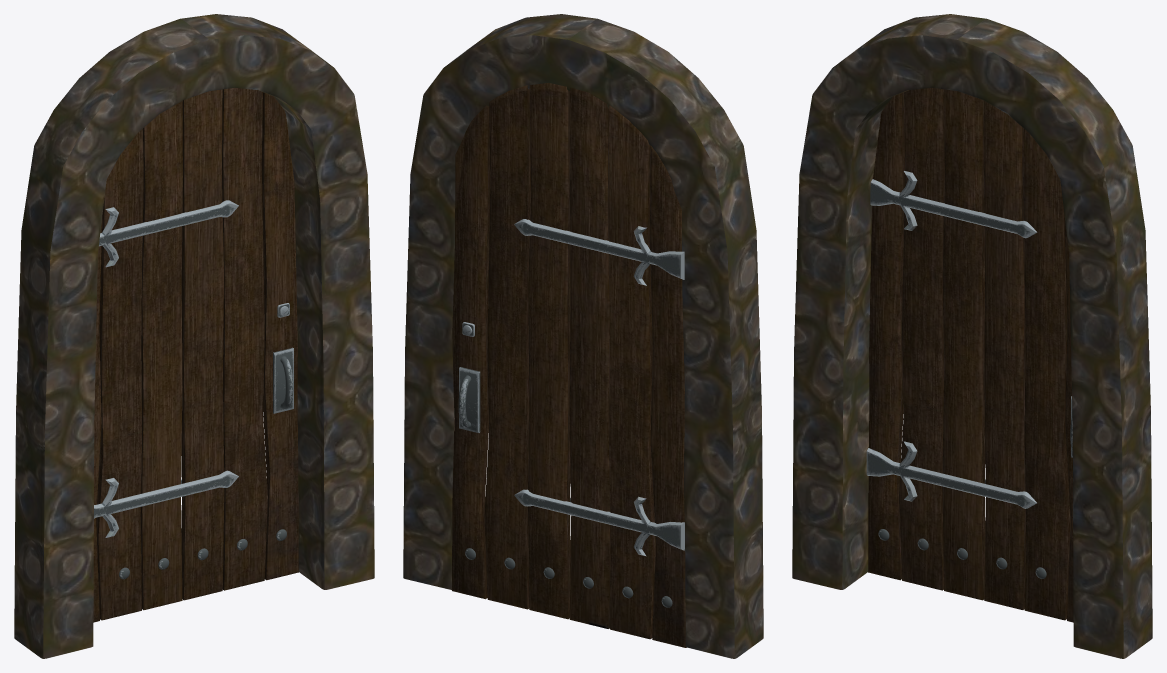
The model's file is door.fbx.
3 views of the same model, side by side, from view 1: azimuth 30°, elevation 25°; view 2: azimuth 150°, elevation 25°; view 3: azimuth 330°, elevation 25° (orthographic).
Parts seen in each view (by area): view 1: Cube.000, Cube.004; view 2: Cube.004, Cube.000; view 3: Cube.000, Cube.004.
Part boxes in pixels (x1,y1,x2,y2): Cube.000: (14, 14, 374, 658); Cube.004: (93, 88, 298, 622); Cube.004: (452, 83, 686, 647); Cube.000: (403, 14, 763, 658); Cube.000: (792, 14, 1152, 658); Cube.004: (866, 88, 1073, 622).
Bounding box in the file's own units: 537 × 894 × 111.
